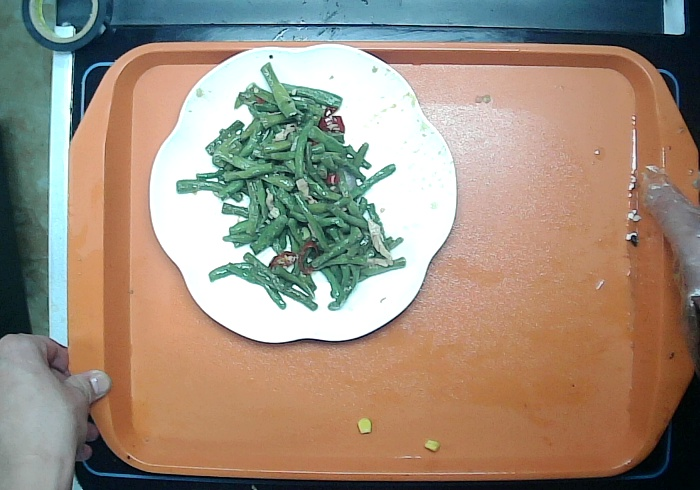HZYJPL-Bai_Se_Hua_Duo_Wan: (148, 43, 460, 348)
